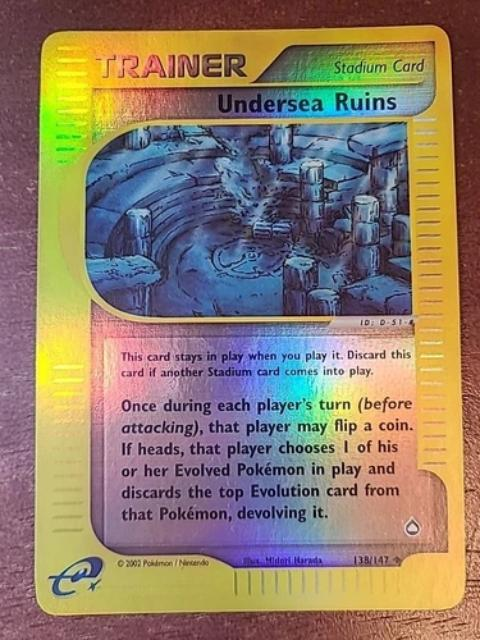Card: (25, 18, 470, 623)
Name: (211, 85, 405, 120)
